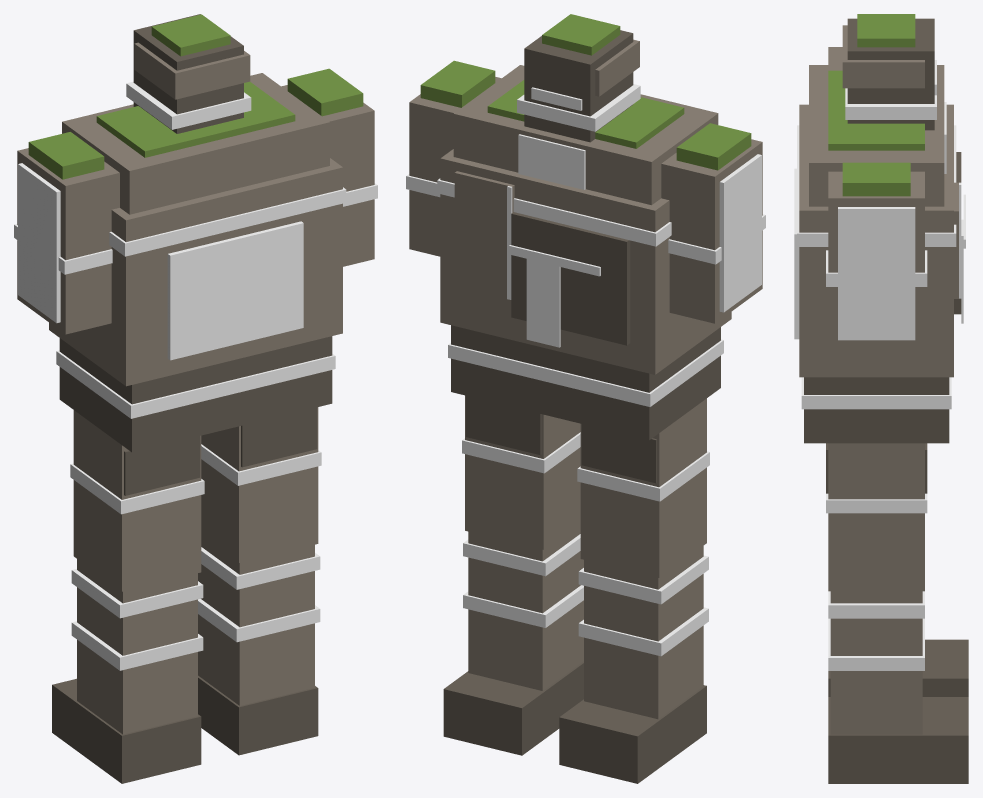
The model's file is GOLEM.gltf.
3 renders of one model, left to right at view 1: azimuth 30°, elevation 25°; view 2: azimuth 150°, elevation 25°; view 3: azimuth 270°, elevation 25°, orthographic.
Visible parts, largest first — view 1: GOLEM; view 2: GOLEM; view 3: GOLEM.
Boxes of the visible parts, x1,y1,x2,y2 form: GOLEM: (14,14,377,783); GOLEM: (406,14,765,783); GOLEM: (794,14,968,783).
Size of the model in its own units: 0.76 by 1.62 by 0.36.
